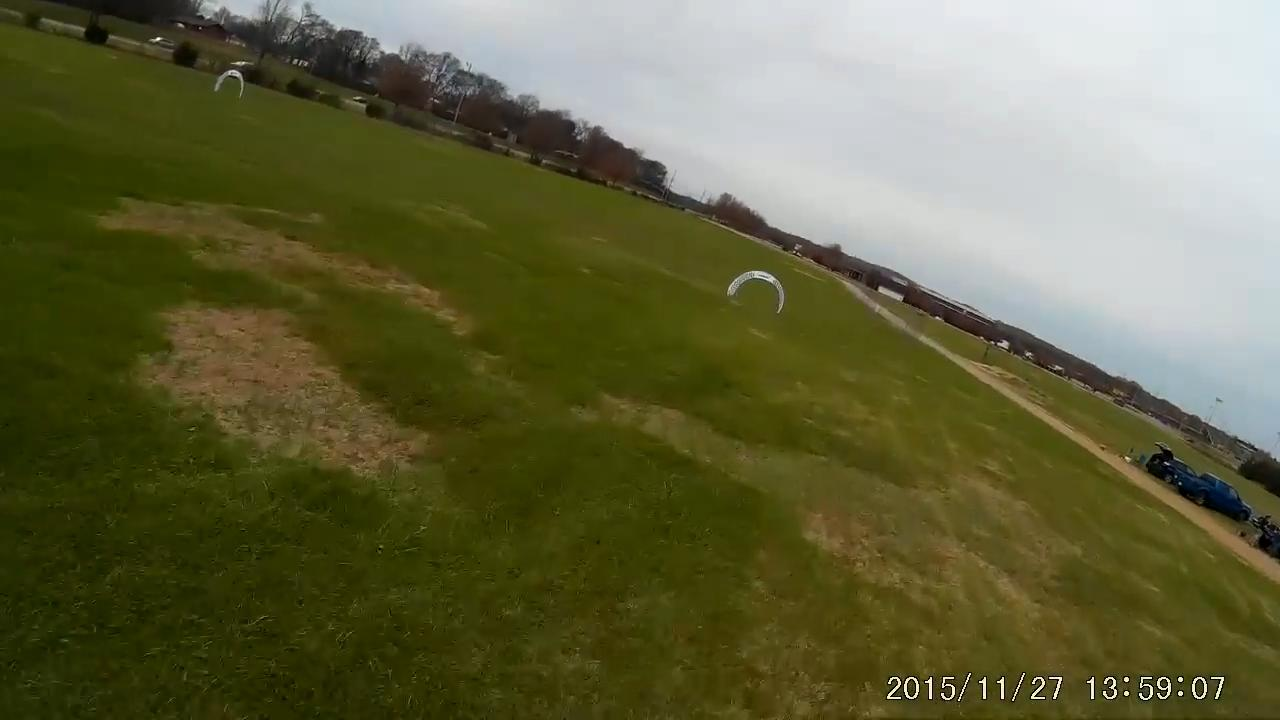gate: (724, 271, 787, 318)
